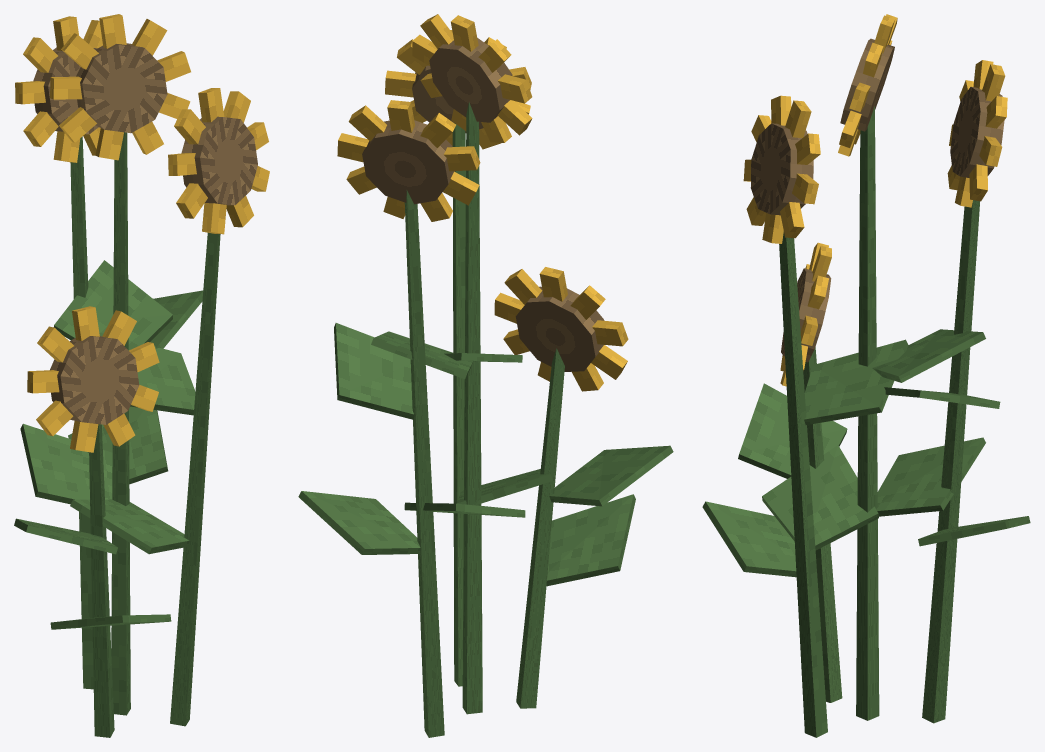
The model's file is f_jerusalem_artichoke.glb.
The picture shows the model from 3 angles, left to right: view 1: azimuth 30°, elevation 25°; view 2: azimuth 150°, elevation 25°; view 3: azimuth 270°, elevation 25°; orthographic projection.
Visible parts, largest first — view 1: block_yellow-petal (×30), block_pointed-leaf (×8), block_seed-head (×4), block_stem-3, block_stem-0, block_stem-1, block_stem-2; view 2: block_pointed-leaf (×7), block_seed-head (×4), block_yellow-petal (×17), block_stem-0, block_stem-2, block_stem-1, block_stem-3; view 3: block_pointed-leaf (×8), block_stem-0, block_stem-3, block_seed-head (×4), block_stem-2, block_yellow-petal (×8), block_stem-1.
Boxes of the visible parts, left/top/right/bottom form: block_yellow-petal (×30): left=15, top=14, right=253, bottom=452; block_pointed-leaf (×8): left=14, top=260, right=203, bottom=629; block_seed-head (×4): left=33, top=43, right=257, bottom=424; block_stem-3: left=170, top=232, right=220, bottom=726; block_stem-0: left=111, top=132, right=130, bottom=715; block_stem-1: left=89, top=424, right=114, bottom=737; block_stem-2: left=70, top=136, right=93, bottom=689; block_pointed-leaf (×7): left=298, top=323, right=673, bottom=586; block_seed-head (×4): left=362, top=38, right=604, bottom=371; block_yellow-petal (×17): left=337, top=14, right=628, bottom=379; block_stem-0: left=462, top=102, right=482, bottom=714; block_stem-2: left=404, top=190, right=444, bottom=737; block_stem-1: left=516, top=348, right=564, bottom=708; block_stem-3: left=452, top=123, right=465, bottom=686; block_pointed-leaf (×8): left=702, top=329, right=1030, bottom=577; block_stem-0: left=856, top=106, right=879, bottom=720; block_stem-3: left=779, top=231, right=827, bottom=737; block_seed-head (×4): left=750, top=38, right=1004, bottom=362; block_stem-2: left=922, top=200, right=979, bottom=723; block_yellow-petal (×8): left=762, top=64, right=1007, bottom=243; block_stem-1: left=803, top=347, right=842, bottom=702.
Size of the model in its own units: 0.4984 by 1.25 by 0.5316.
Materials: 1 (1 with a texture image).
